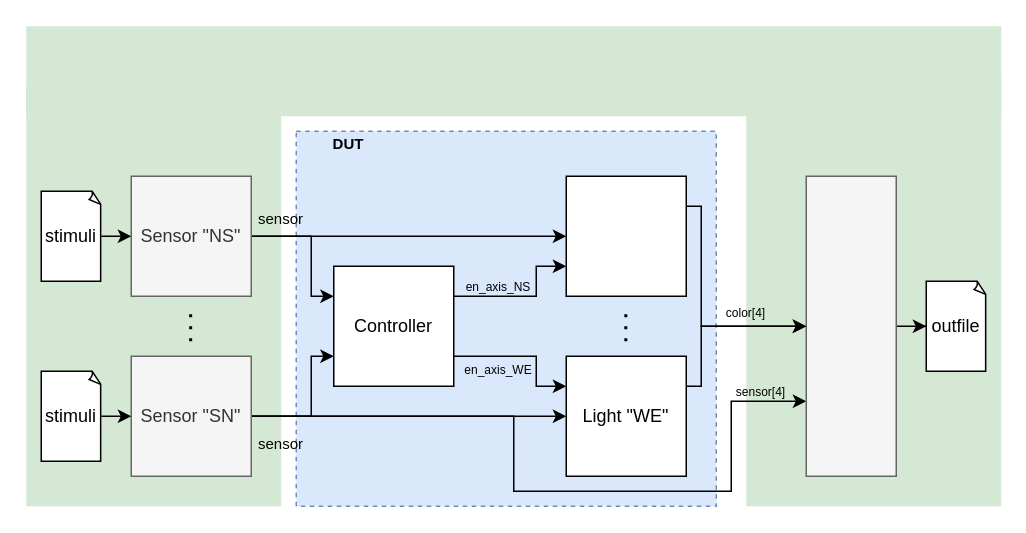
This 1026x533 diagram has some shape labels left out. The shapes that lost their labels are listed below. From the top down, each one's box as (x1, y1, x2, y2) in pixels, then its label:
(26, 26, 1000, 116): Testbench
(565, 175, 686, 296): Light "NS"
(805, 175, 896, 476): Monitor
